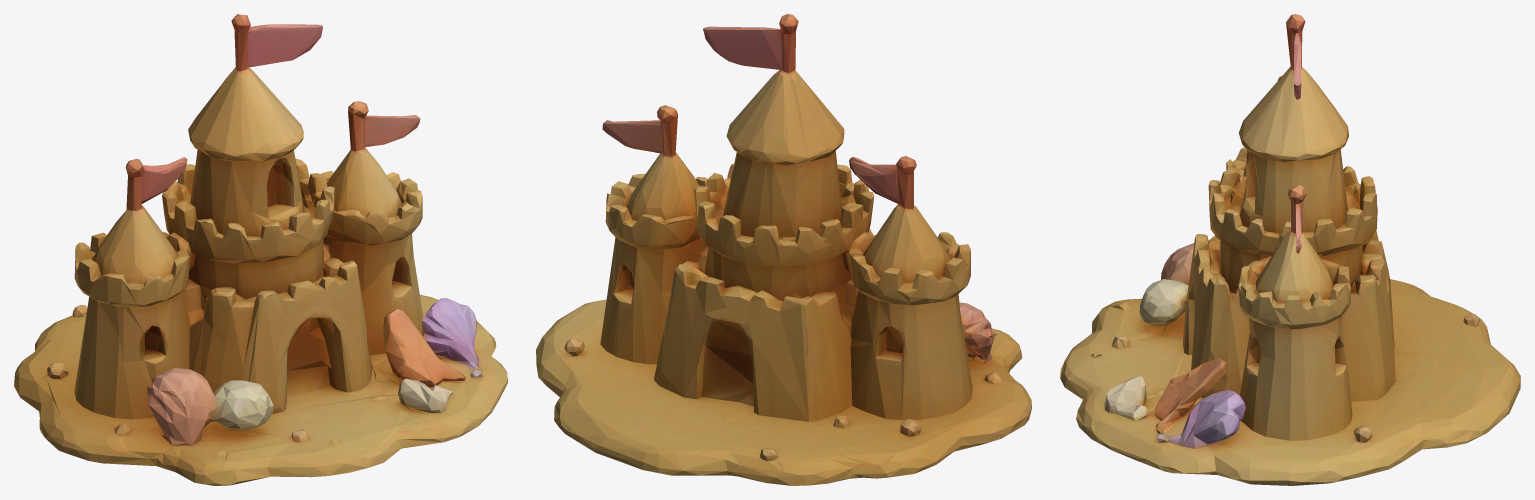
Rendered from sandcastle.glb.
The picture shows the model from 3 angles, left to right: view 1: azimuth 30°, elevation 25°; view 2: azimuth 150°, elevation 25°; view 3: azimuth 270°, elevation 25°; orthographic projection. The views are drawn at different scales.
Parts seen in each view (by area): view 1: geometry_0; view 2: geometry_0; view 3: geometry_0.
Boxes of the visible parts, bbox=[...] form: geometry_0: bbox=[14, 14, 507, 485]; geometry_0: bbox=[536, 14, 1031, 485]; geometry_0: bbox=[1060, 14, 1520, 485].
Bounding box in the file's own units: 0.9978 × 0.8025 × 0.9243.
1 material, 1 textured.
